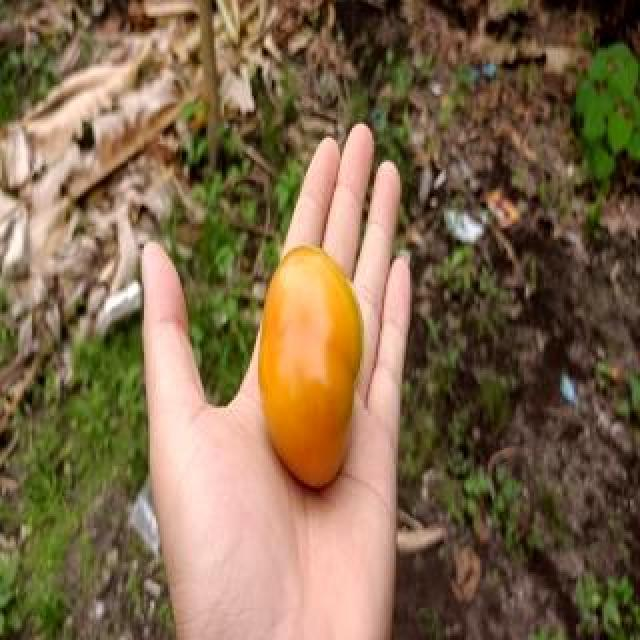Fresh_Tomato: (256, 230, 368, 500)
